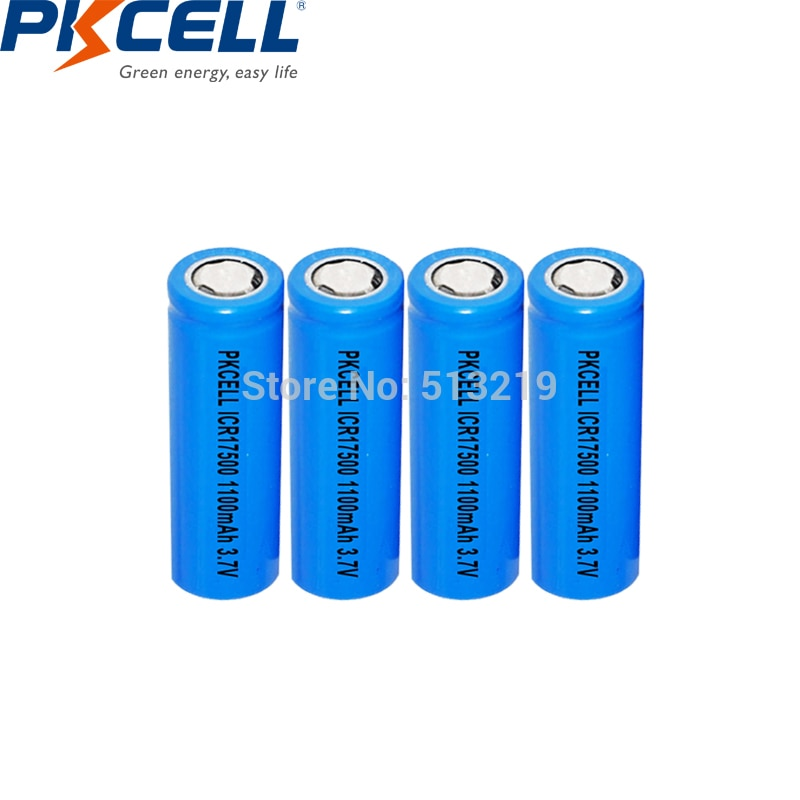Battery: (164, 245, 292, 603), (526, 245, 647, 603), (405, 247, 525, 604), (286, 244, 404, 605)
